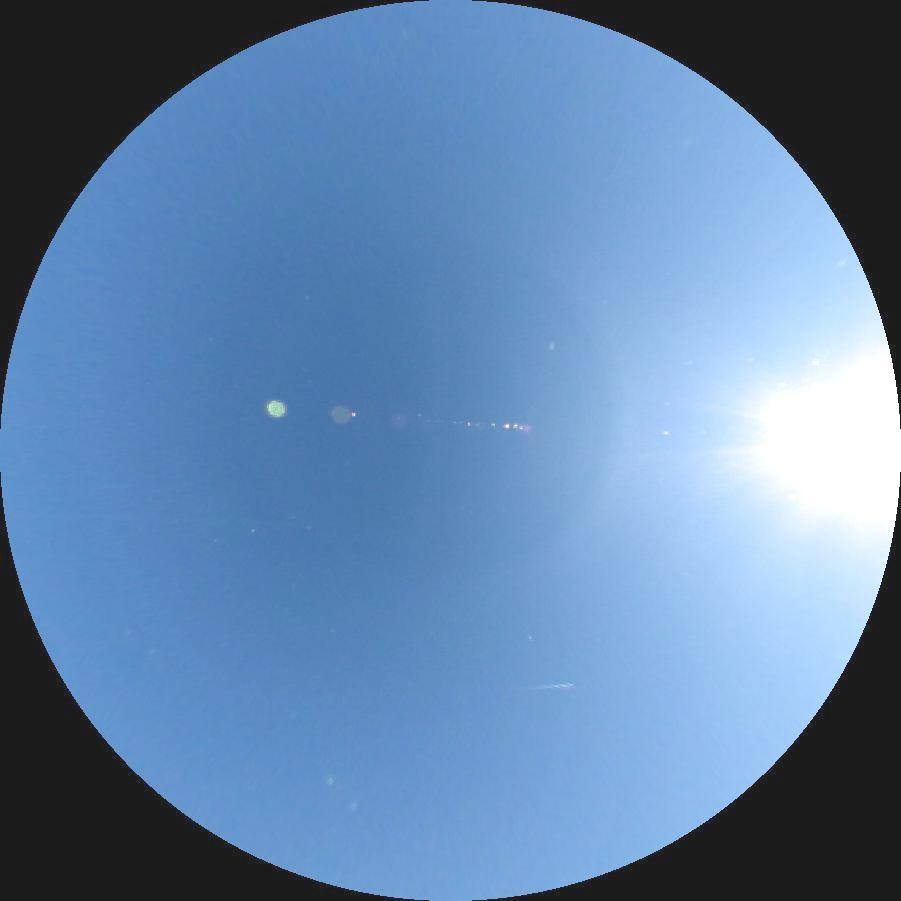contrail young: (522, 683, 574, 692)
sun: (758, 351, 901, 531)
